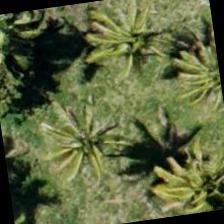Kelapa_Sawit: (40, 91, 142, 193), (81, 0, 184, 94), (166, 34, 223, 131), (153, 143, 223, 219), (0, 8, 53, 75)
